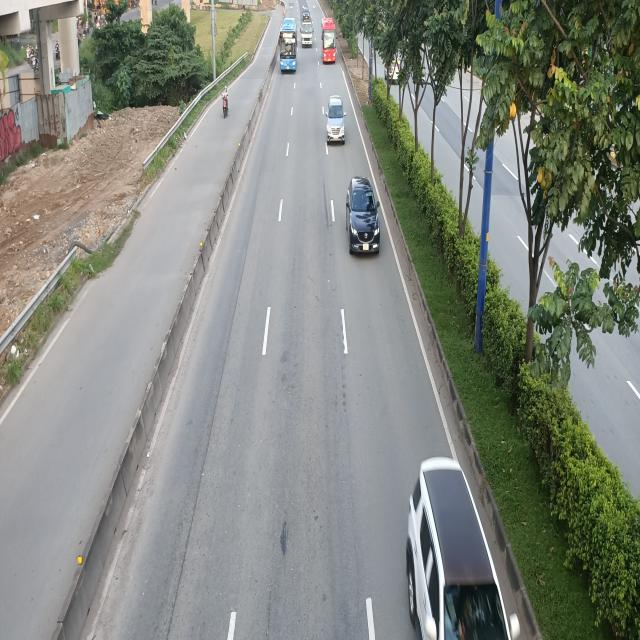car: (407, 459, 522, 640), (345, 178, 380, 257), (328, 98, 349, 146)
coach: (278, 16, 298, 75), (320, 16, 337, 64)
truck: (301, 19, 313, 48)
